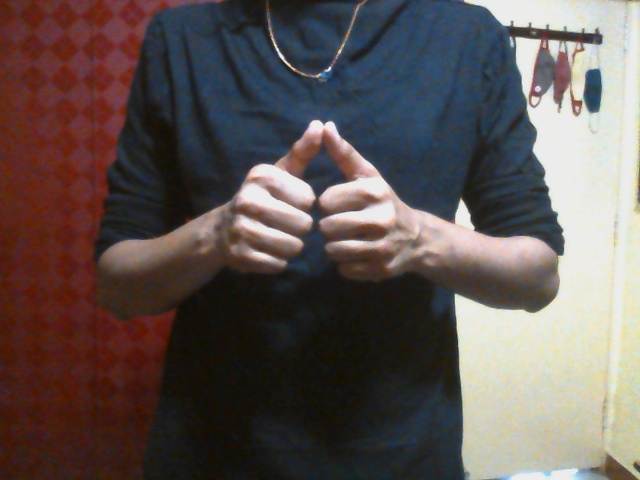A: (210, 114, 428, 293)
